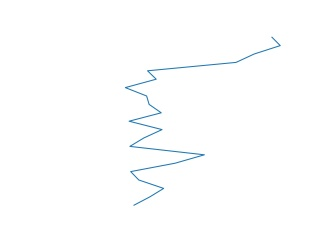crevasseRiverChannelBar: (121, 33, 286, 208)
